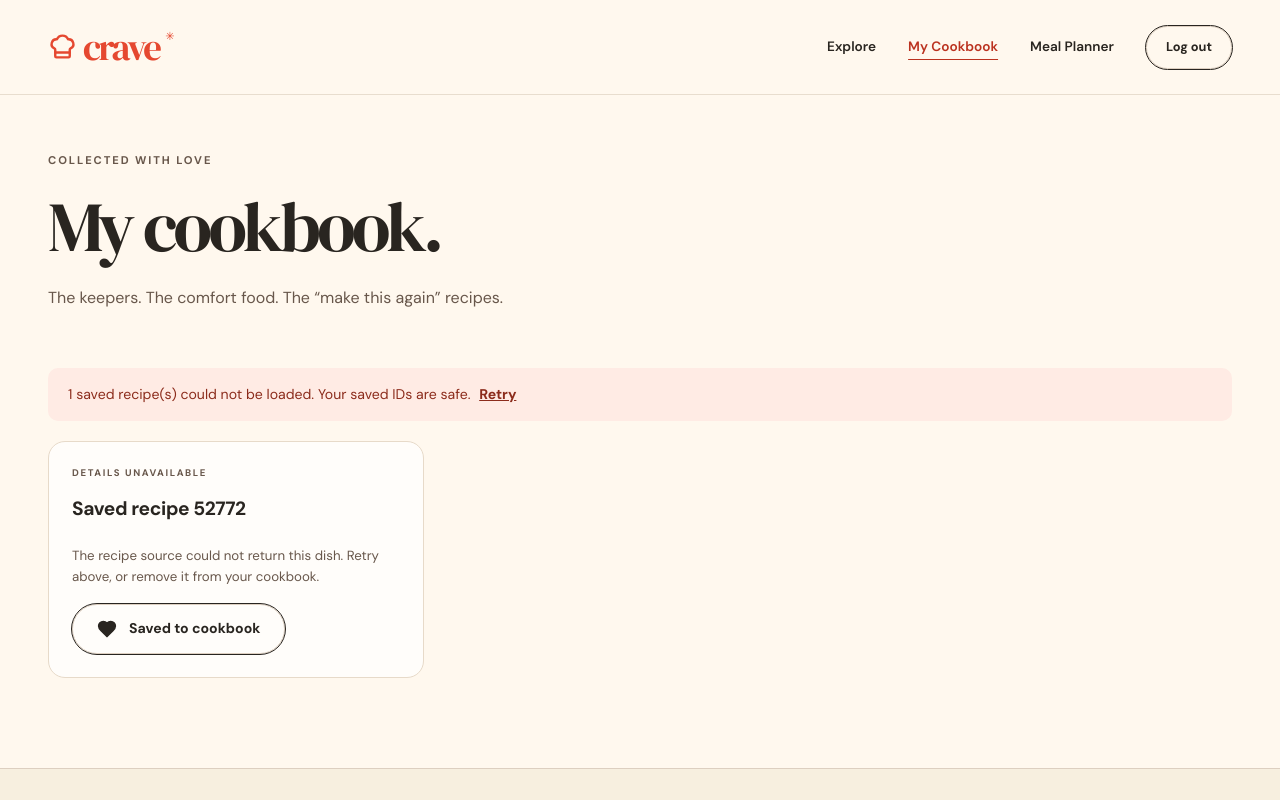
Scenario: unavailable saved recipes can still be removed
Check: the heading "Saved recipe 52772" is shown, box [72,496,246,521]
Click the button with aria-label "Remove saved recipe 52772 from cookbook" at (179, 629), box [72,604,285,654]
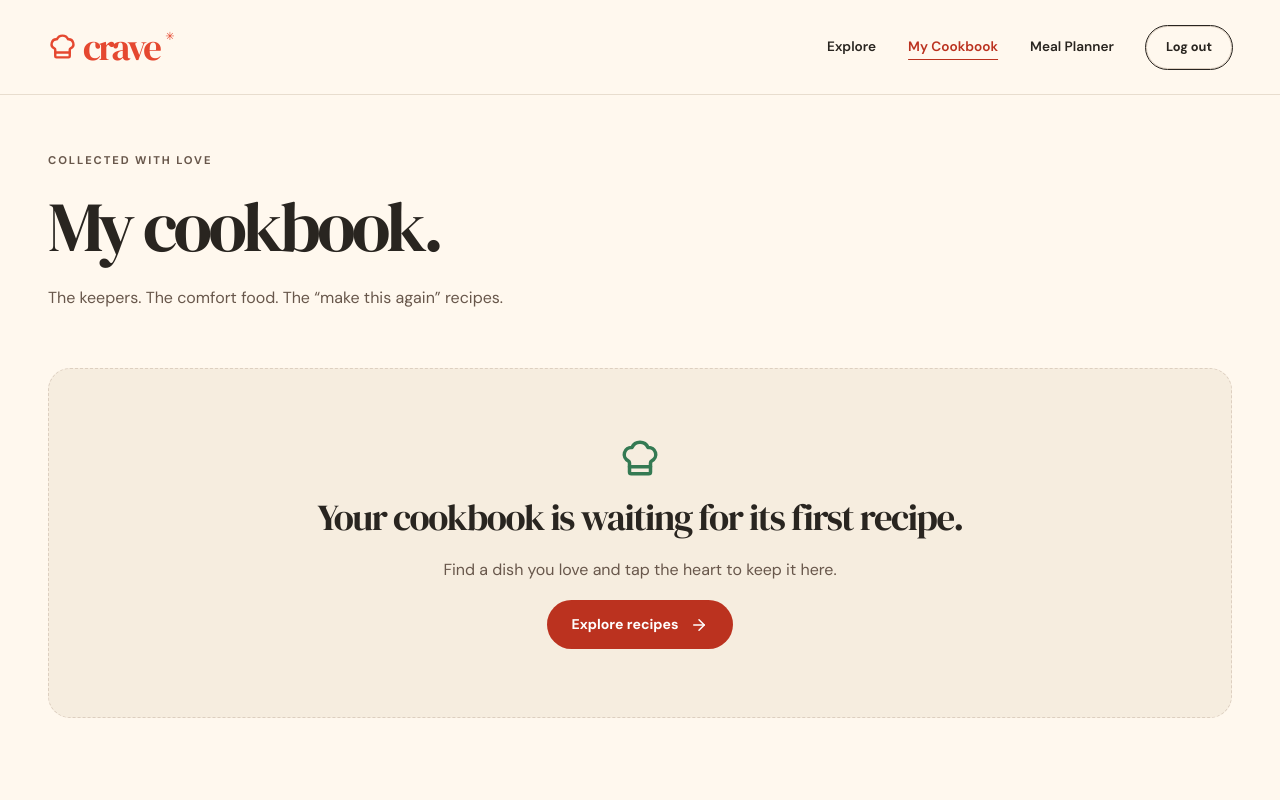
Check: the heading "Your cookbook is waiting for its first recipe." is shown, box [317,498,963,539]
